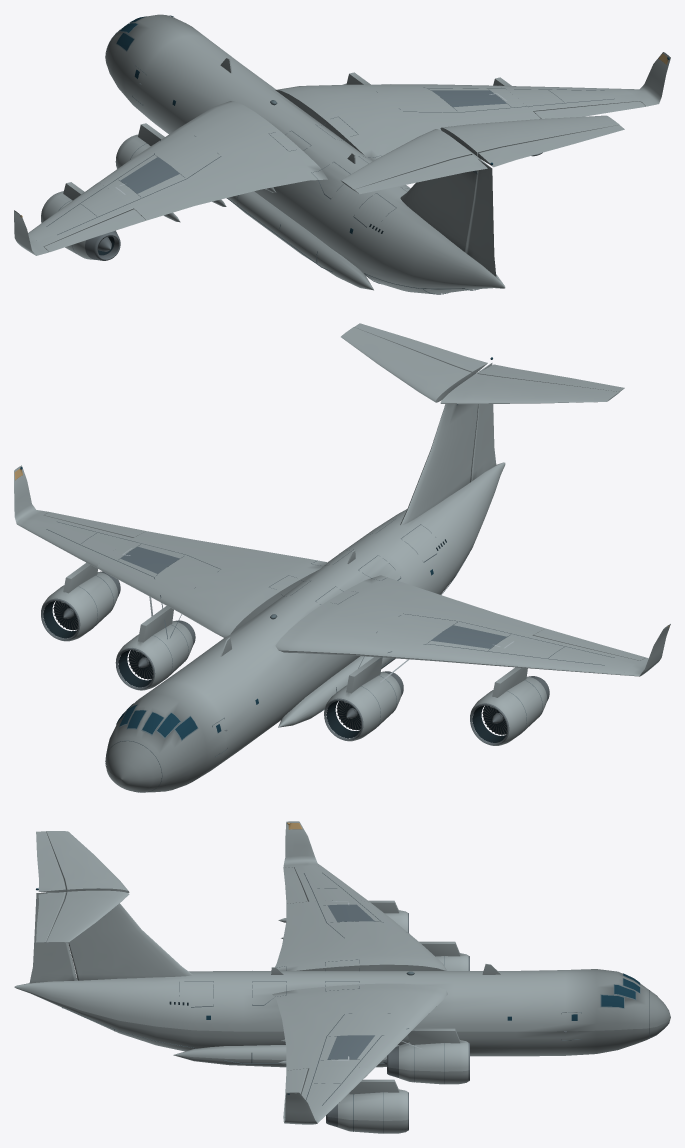
The model's file is player-c17-hero-v3.glb.
3 renders of one model, top to bottom at view 1: azimuth 30°, elevation 25°; view 2: azimuth 150°, elevation 25°; view 3: azimuth 270°, elevation 25°, orthographic. The views are drawn at different scales.
Visible parts, largest first — view 1: hull, service-markings, rudder-skin, elevator-right-skin, elevator-left-skin, aileron-left-skin, aileron-right-skin, metal, trim; view 2: hull, service-markings, dark, metal, rudder-skin, elevator-right-skin, glass, elevator-left-skin, trim, aileron-left-skin, aileron-right-skin; view 3: hull, service-markings, rudder-skin, elevator-left-skin, elevator-right-skin, trim, glass, metal, aileron-left-skin, aileron-right-skin.
Part boxes in pixels (box(x1,y1,x2,y2)): hull: box(14, 14, 670, 293); service-markings: box(44, 84, 614, 234); rudder-skin: box(466, 159, 496, 276); elevator-right-skin: box(477, 125, 624, 166); elevator-left-skin: box(354, 154, 487, 193); aileron-left-skin: box(44, 208, 145, 251); aileron-right-skin: box(533, 101, 645, 118); metal: box(41, 83, 542, 260); trim: box(58, 15, 479, 294); hull: box(14, 327, 670, 792); service-markings: box(44, 519, 614, 682); dark: box(43, 539, 506, 742); metal: box(41, 571, 549, 745); rudder-skin: box(471, 363, 496, 481); elevator-right-skin: box(354, 323, 487, 375); glass: box(20, 357, 492, 739); elevator-left-skin: box(478, 364, 624, 391); trim: box(78, 404, 542, 792); aileron-left-skin: box(533, 628, 645, 660); aileron-right-skin: box(44, 512, 145, 537); hull: box(14, 821, 670, 1133); service-markings: box(179, 872, 452, 1105); rudder-skin: box(29, 892, 76, 983); elevator-left-skin: box(36, 831, 66, 892); elevator-right-skin: box(36, 892, 66, 942); trim: box(62, 956, 649, 1133); glass: box(36, 888, 639, 1094); metal: box(326, 913, 566, 1130); aileron-left-skin: box(283, 867, 308, 903); aileron-right-skin: box(283, 1068, 308, 1117).
Size of the model in its own units: 51.75 by 14.79 by 53.
